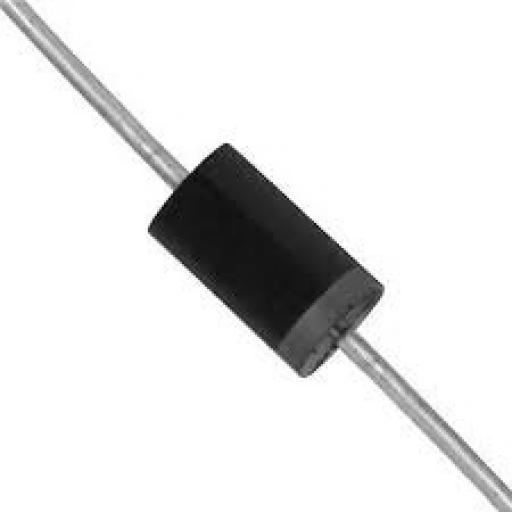DIODE: (2, 2, 512, 512)
